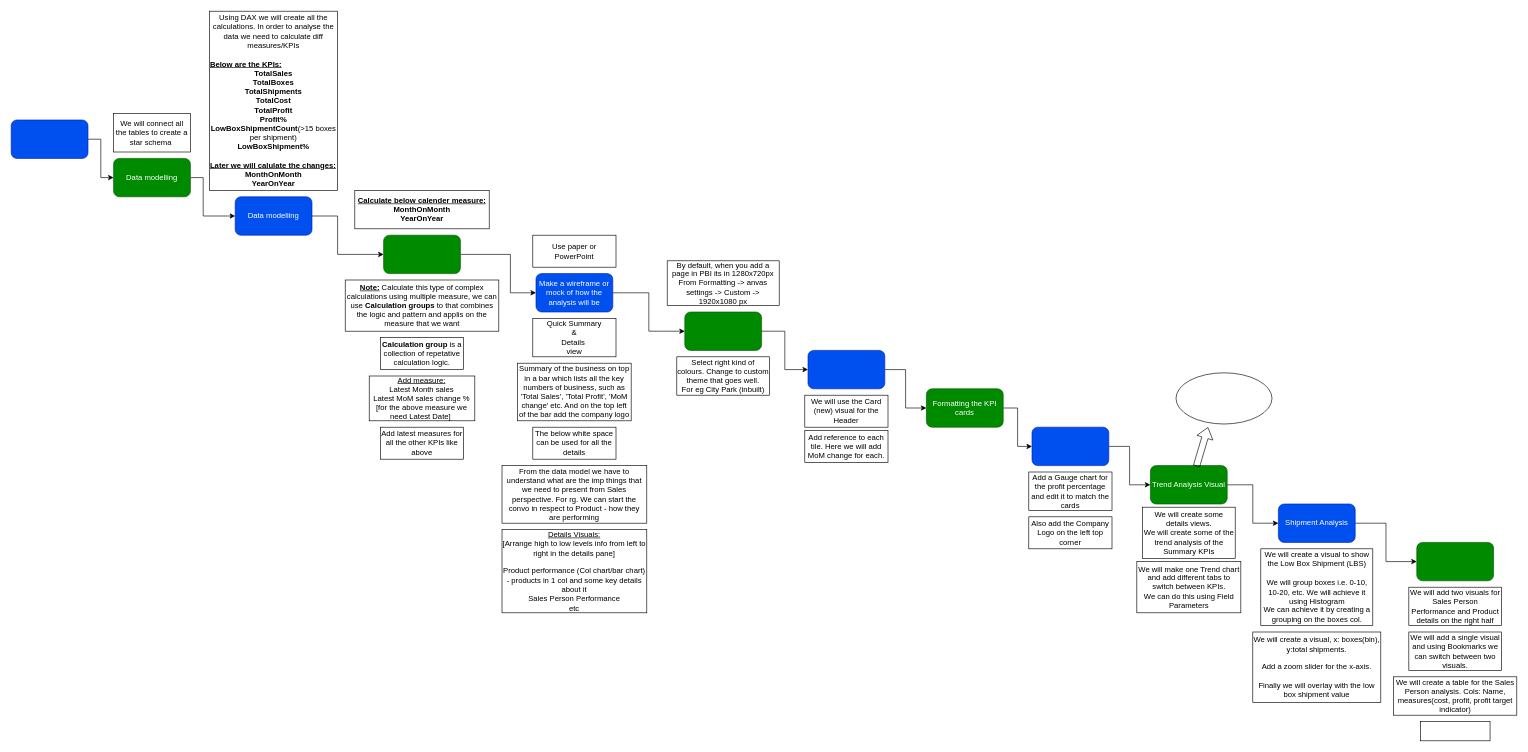
The diagram is 1528 pixels wide and 752 high, and some of its shapes have lost their labels. Here are the shapes that lost their labels. From the top down, the box of each, then its label:
(11, 119, 88, 158): Loading data
(383, 235, 460, 274): Create Calender Table
(684, 311, 762, 350): Page Design
(807, 350, 885, 389): KPI Cards
(1175, 372, 1272, 424): H.W. Use the Field Parameters to highlight the respective cards.
(1031, 427, 1109, 466): Profit % Gauge Chart
(1416, 542, 1494, 581): Sales Person Performance Table
(1420, 721, 1490, 741): Format the table
